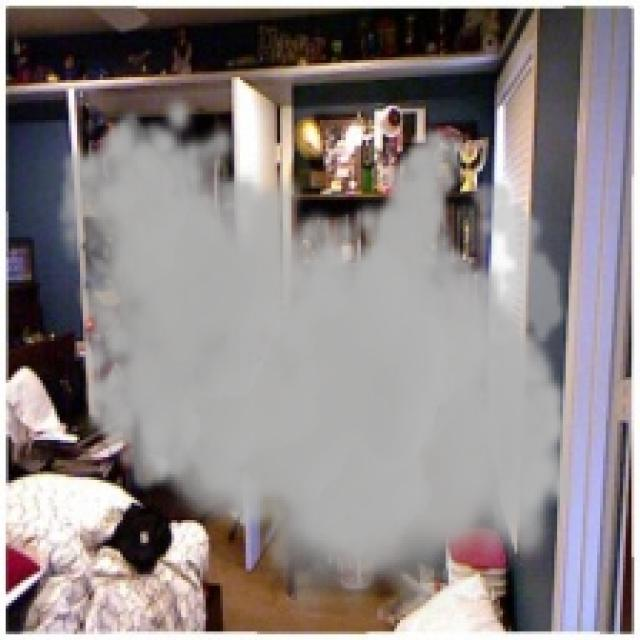smoke: (54, 91, 583, 632)
